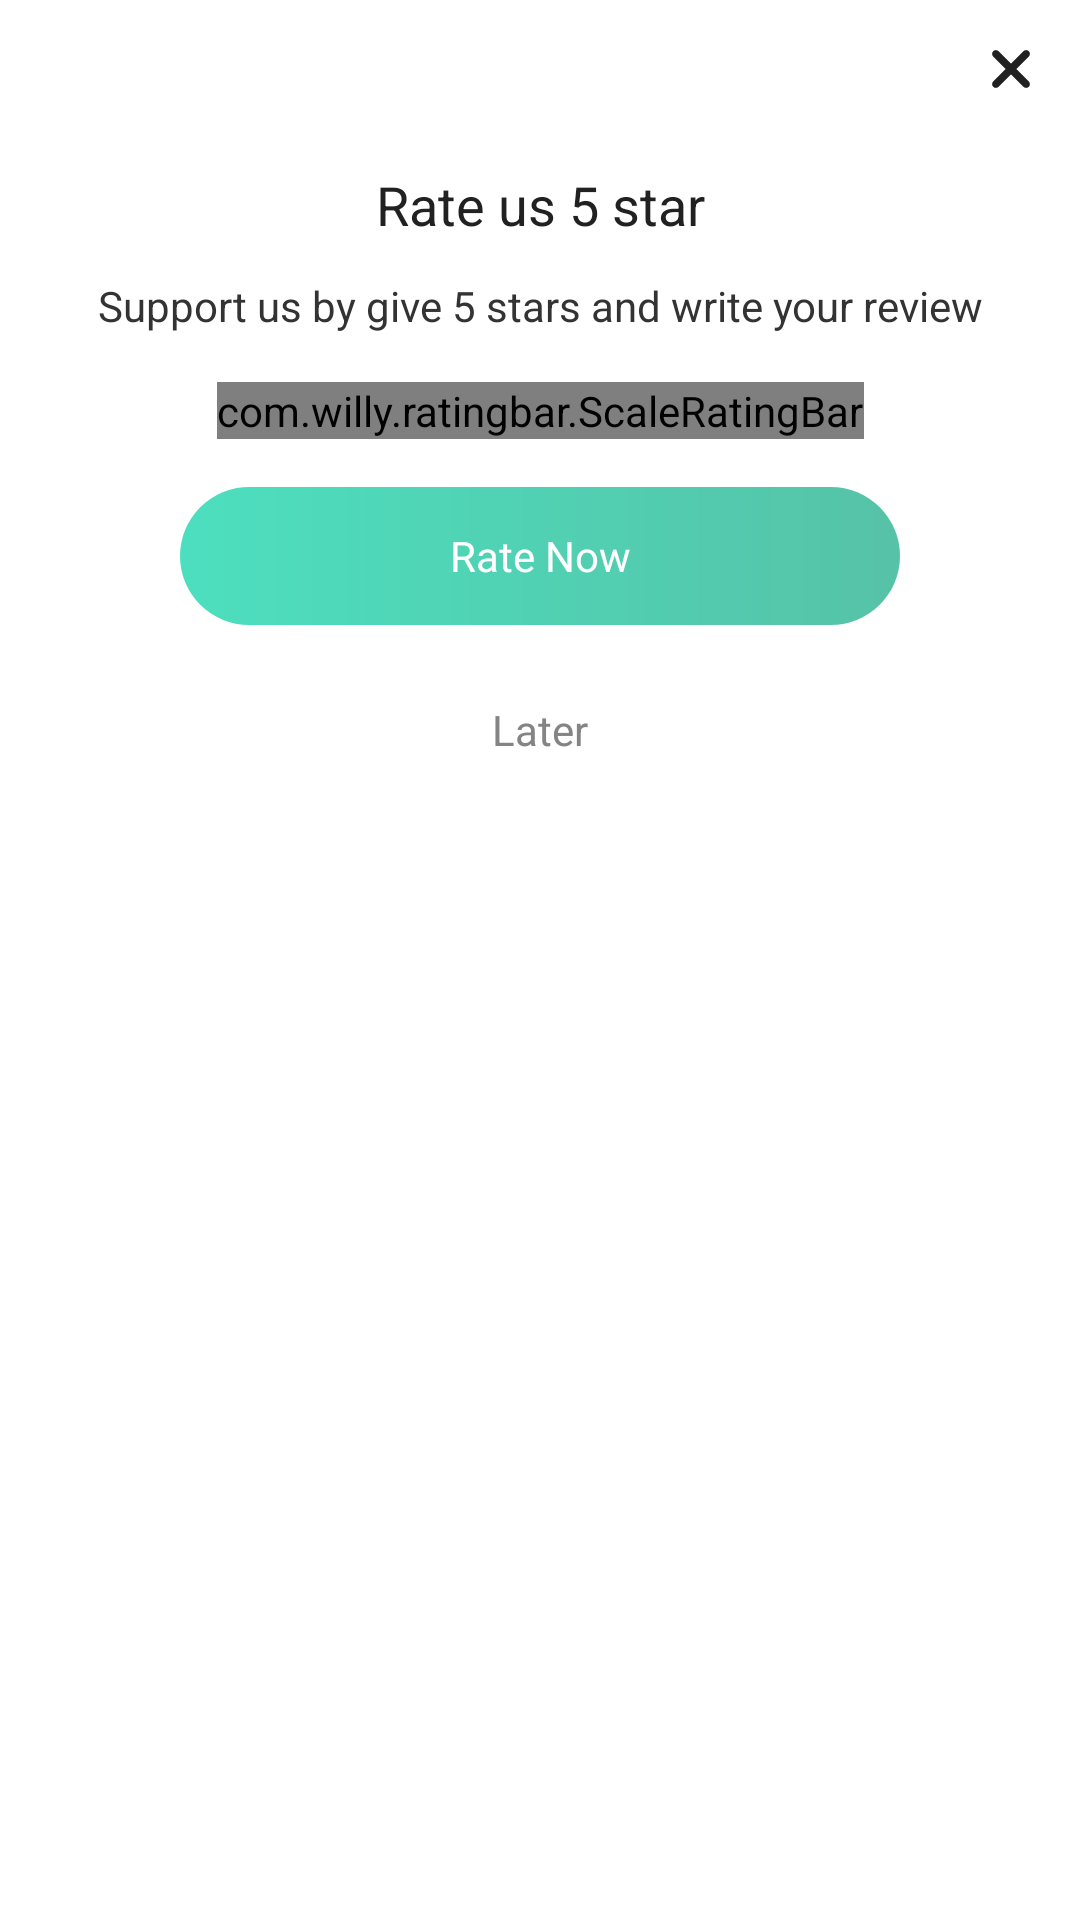

Screen size 1080 × 1920. Icon name, then its center in pixels as (x=x, y=y):
close: (x=1011, y=69)
